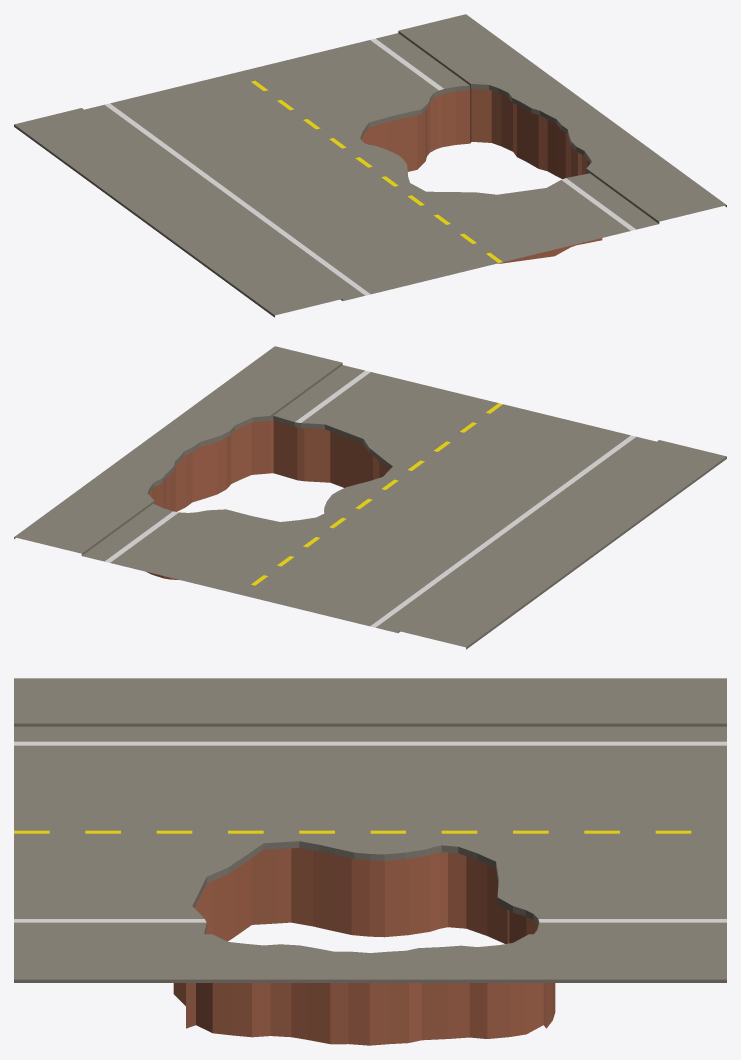
Rendered from straight_Broken.fbx.
3 renders of one model, top to bottom at view 1: azimuth 30°, elevation 25°; view 2: azimuth 150°, elevation 25°; view 3: azimuth 270°, elevation 25°, orthographic. The views are drawn at different scales.
Parts seen in each view (by area): view 1: Straight; view 2: Straight; view 3: Straight.
Part boxes in pixels (x1,y1,x2,y2): Straight: (14, 14, 726, 317); Straight: (14, 346, 726, 649); Straight: (14, 678, 726, 1045).
Bounding box in the file's own units: 20 × 2.79 × 20.
